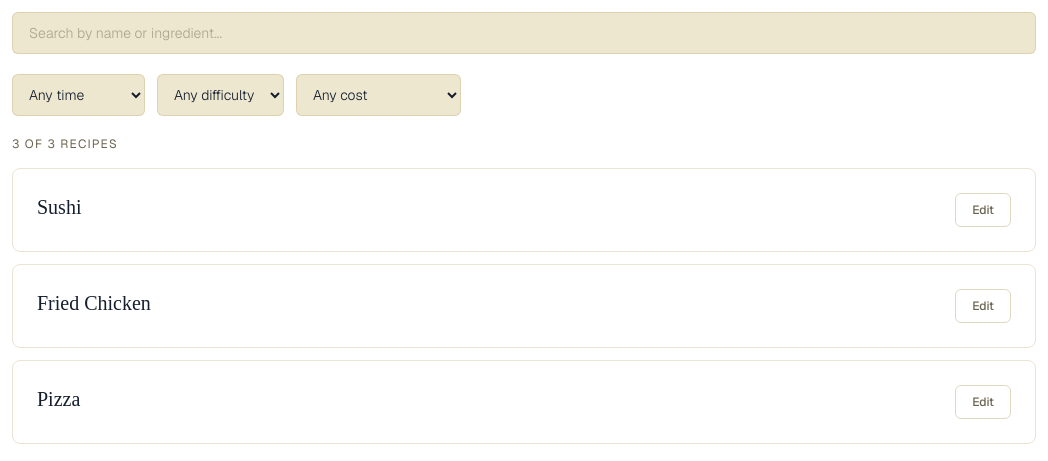
Scenario: RecipeListClient › shows a 'No recipes found' message when the search query matches nothing
The image size is (1048, 461).
Type "qwertyasdfghzxcvbn" into the field named "search recipes" at [524, 33], box [12,12,1036,54]
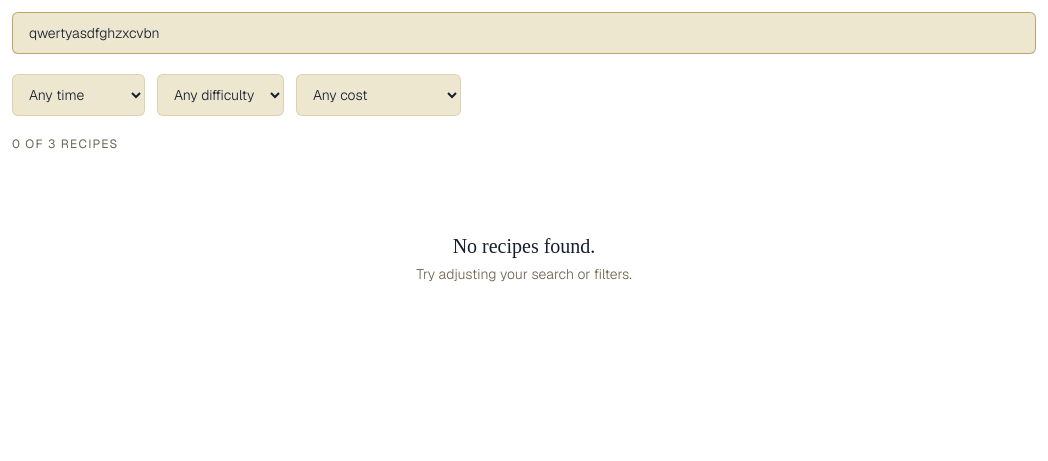
Result: the text "No recipes found." is shown at [453,235,595,257]
Result: the text "0 of 3 recipes" is shown at [12,136,118,152]
